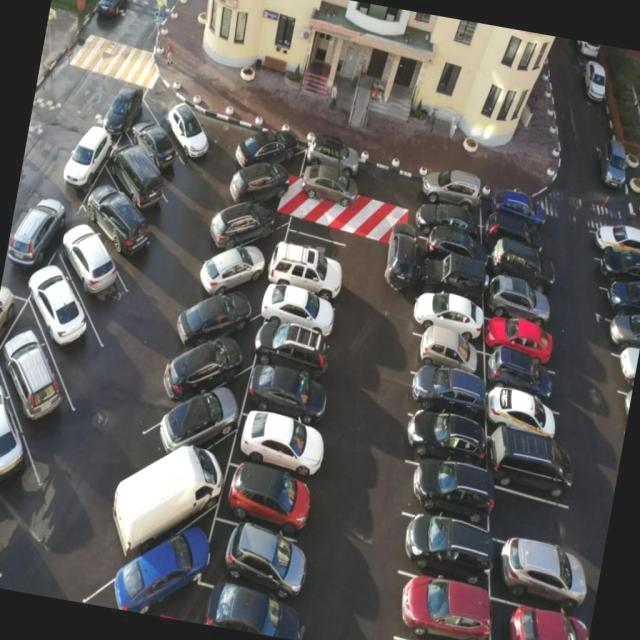car: (103, 428, 233, 554), (0, 322, 76, 472), (96, 521, 205, 621), (149, 368, 247, 468), (26, 272, 108, 388), (156, 320, 251, 415), (61, 218, 139, 326), (0, 374, 52, 534), (81, 174, 154, 282), (386, 573, 494, 639), (208, 520, 304, 594), (394, 512, 492, 584), (174, 274, 260, 356), (491, 538, 591, 606), (400, 461, 496, 531), (221, 464, 319, 532), (232, 408, 327, 476), (197, 583, 305, 639), (242, 364, 331, 426), (402, 408, 488, 472), (105, 140, 171, 220), (199, 233, 275, 300), (2, 212, 62, 294), (254, 317, 338, 375), (152, 84, 217, 156), (260, 280, 339, 334), (407, 367, 487, 420), (56, 124, 110, 202), (208, 199, 278, 259), (492, 436, 564, 494), (490, 600, 590, 640), (126, 114, 190, 174), (416, 294, 490, 345), (482, 393, 560, 441), (406, 333, 489, 378), (270, 244, 350, 290), (230, 158, 294, 213), (484, 353, 557, 401), (233, 127, 303, 177), (423, 258, 493, 306), (486, 314, 556, 362), (420, 230, 484, 274), (420, 202, 488, 242), (423, 174, 488, 213), (488, 278, 550, 316), (484, 219, 546, 257), (488, 248, 548, 286), (490, 186, 547, 226), (588, 223, 640, 263), (594, 253, 640, 296), (0, 292, 19, 388), (604, 278, 640, 324), (608, 308, 640, 354)
free: (488, 492, 576, 546), (278, 226, 348, 264)
